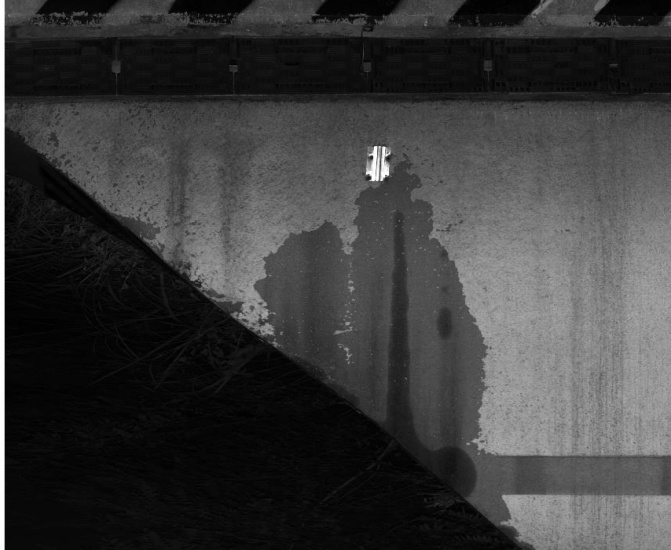渗水: (260, 120, 520, 381)
